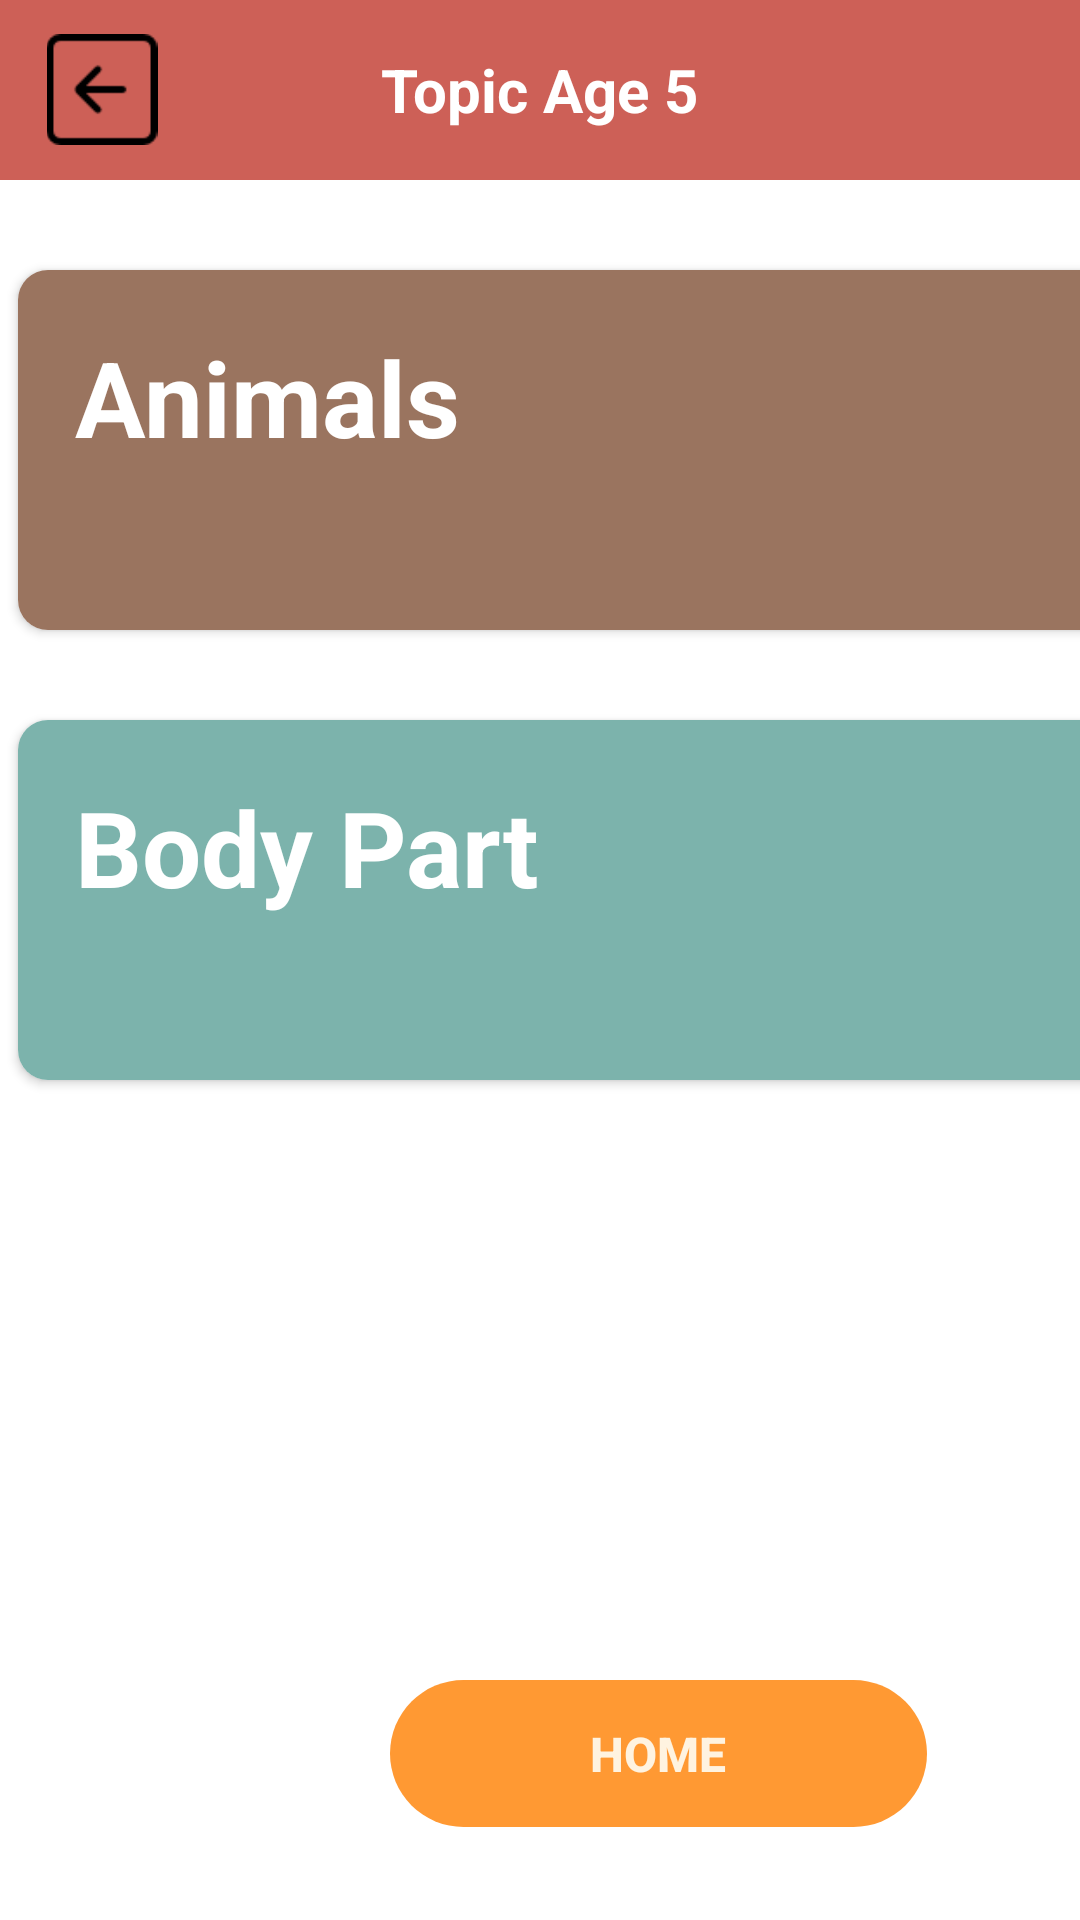

Icon click points for this 1080w x 1920h phone screenshot, format point (x, y):
back: point (102, 89)
